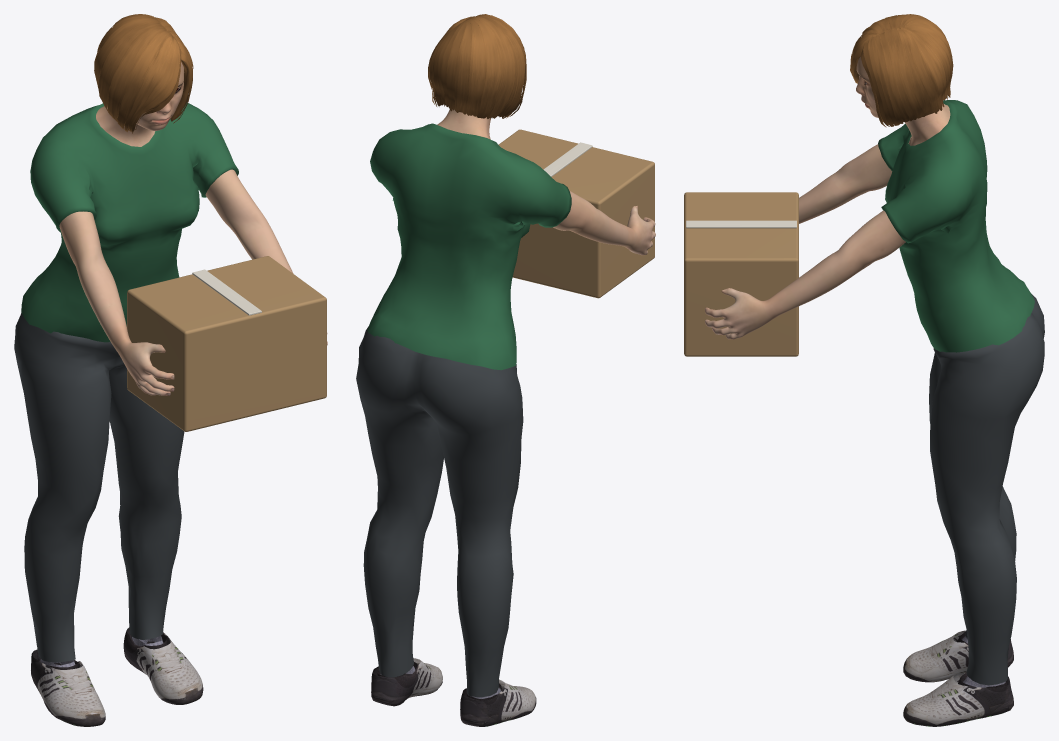
Rendered from inspector-reach.glb.
The picture shows the model from 3 angles, left to right: view 1: azimuth 30°, elevation 25°; view 2: azimuth 150°, elevation 25°; view 3: azimuth 270°, elevation 25°; orthographic projection. The views are drawn at different scales.
Visible parts, largest first — view 1: female_casualsuit01, Small cardboard parcel, Taylor | anatomical body, bob02, shoes05, Parcel paper seam; view 2: female_casualsuit01, Small cardboard parcel, bob02, shoes05, Taylor | anatomical body, Parcel paper seam; view 3: female_casualsuit01, Small cardboard parcel, Taylor | anatomical body, bob02, shoes05, Parcel paper seam.
Part boxes in pixels (bbox=[...]): female_casualsuit01: bbox=[14, 103, 238, 662]; Small cardboard parcel: bbox=[127, 256, 326, 431]; Taylor | anatomical body: bbox=[59, 62, 327, 395]; bob02: bbox=[94, 14, 193, 133]; shoes05: bbox=[31, 627, 203, 726]; Parcel paper seam: bbox=[192, 269, 261, 315]; female_casualsuit01: bbox=[356, 123, 571, 697]; Small cardboard parcel: bbox=[498, 129, 654, 298]; bob02: bbox=[428, 14, 526, 118]; shoes05: bbox=[371, 658, 536, 726]; Taylor | anatomical body: bbox=[437, 109, 655, 255]; Parcel paper seam: bbox=[543, 142, 592, 176]; female_casualsuit01: bbox=[878, 100, 1044, 685]; Small cardboard parcel: bbox=[684, 192, 798, 356]; Taylor | anatomical body: bbox=[705, 57, 950, 339]; bob02: bbox=[850, 14, 953, 127]; shoes05: bbox=[903, 630, 1013, 726]; Parcel paper seam: bbox=[686, 220, 796, 228].
Bounding box in the file's own units: 0.4778 × 1.67 × 0.8011.
11 materials, 11 textured.
